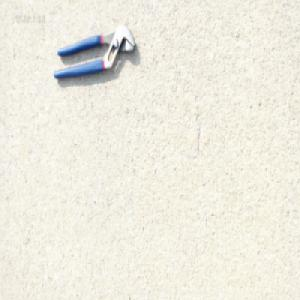Pliers: (52, 23, 136, 81)
